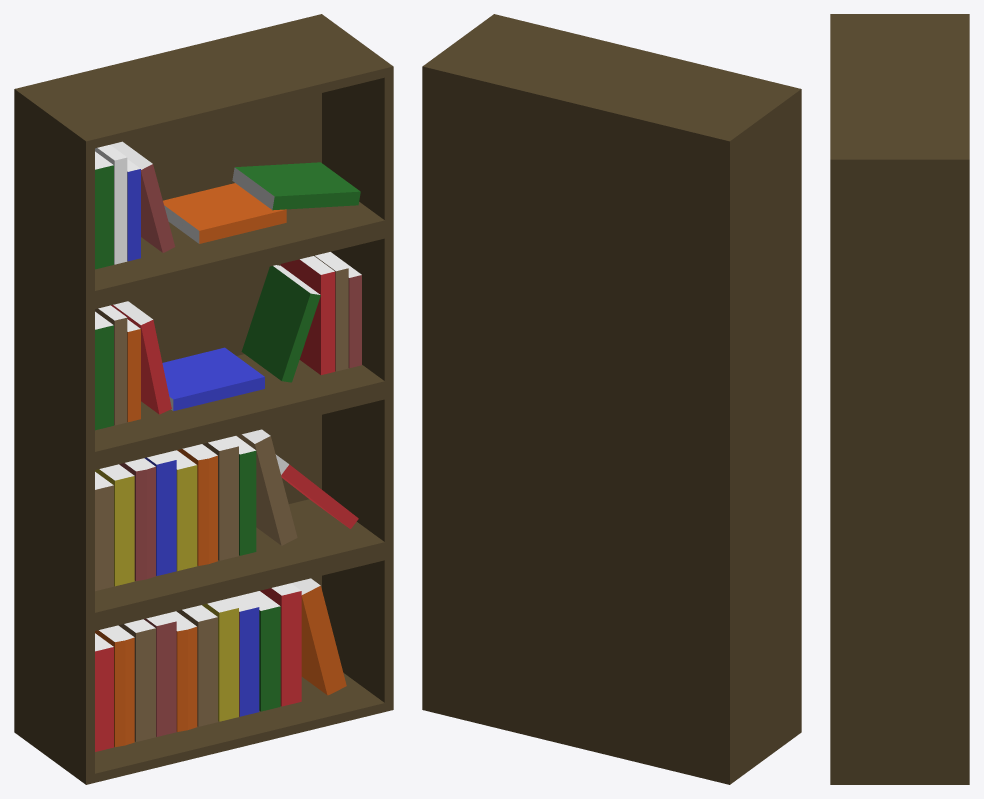
File: BooksShelf_01.obj
3 views of the same model, side by side, from view 1: azimuth 30°, elevation 25°; view 2: azimuth 150°, elevation 25°; view 3: azimuth 270°, elevation 25° (orthographic). The views are drawn at different scales.
Parts seen in each view (by area): view 1: BookShelf01; view 2: BookShelf01; view 3: BookShelf01.
Part boxes in pixels (<box>): BookShelf01: <box>14,14,393,784</box>; BookShelf01: <box>422,14,801,784</box>; BookShelf01: <box>830,14,969,784</box>.
Size of the model in its own units: 4.95 by 9.91 by 2.
